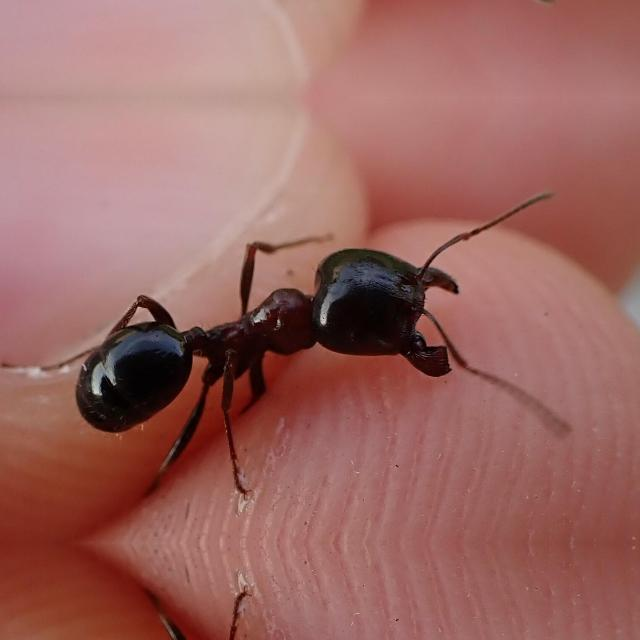Messor: (79, 208, 461, 464)
